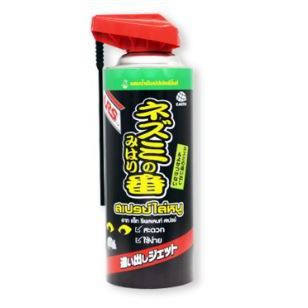Aerosol_cans: (87, 10, 200, 292)
